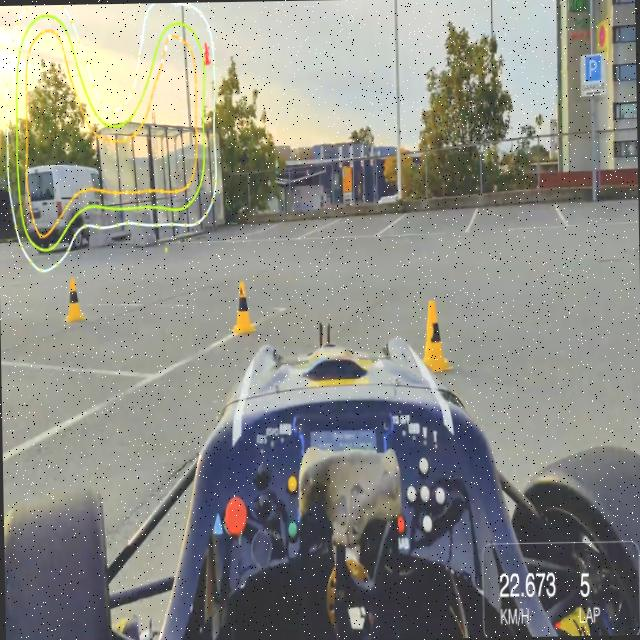yellow_cone: (419, 300, 450, 373), (232, 280, 255, 336), (64, 278, 85, 324)
